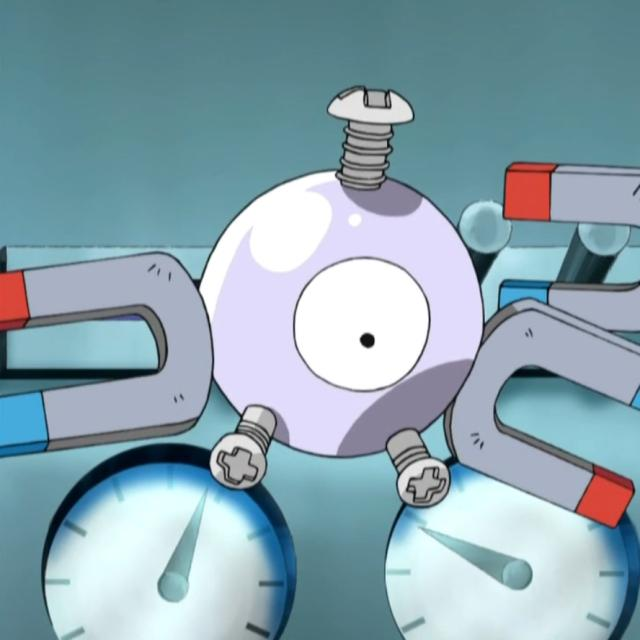Magnemite: (12, 140, 640, 484)
